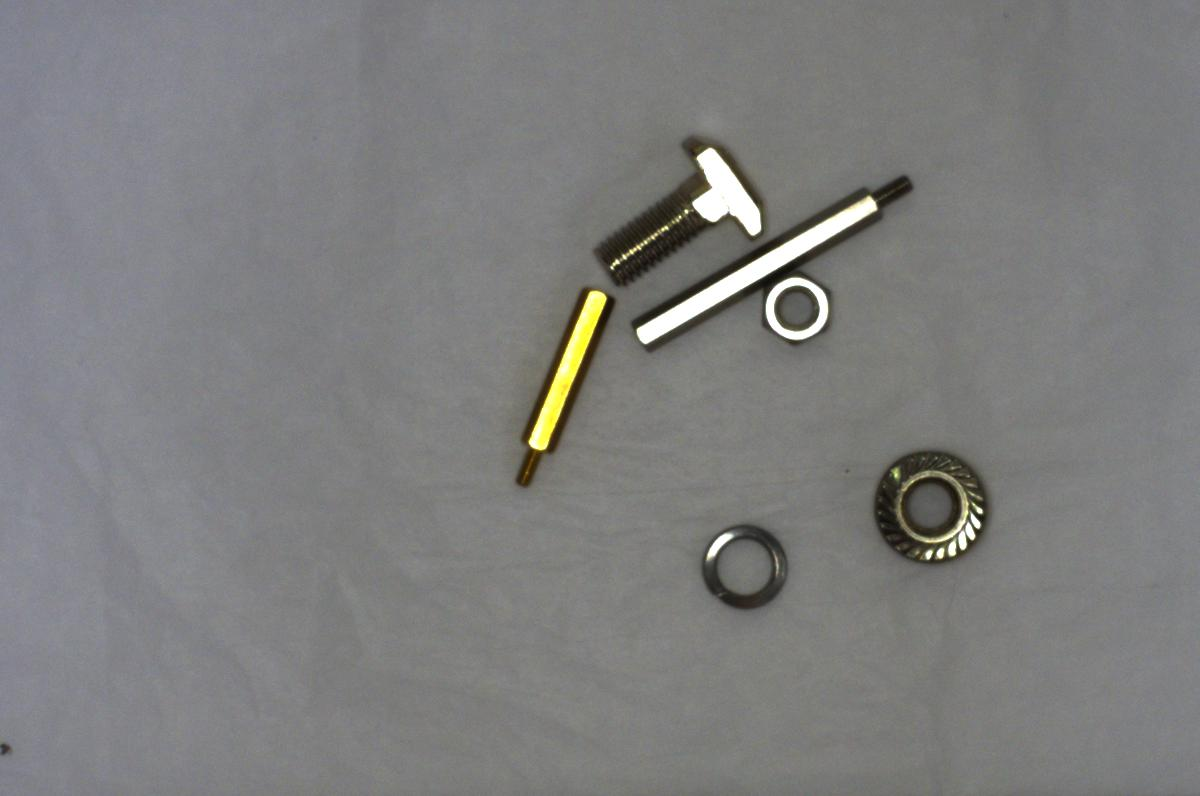Flange nut: (866, 439, 992, 565)
Hexagon nut: (753, 274, 838, 348)
Hexagon pillar: (508, 277, 608, 482)
Hexagonal steel column: (621, 174, 914, 353)
Spring washer: (689, 509, 797, 615)
T-shaped screw: (603, 132, 765, 283)
